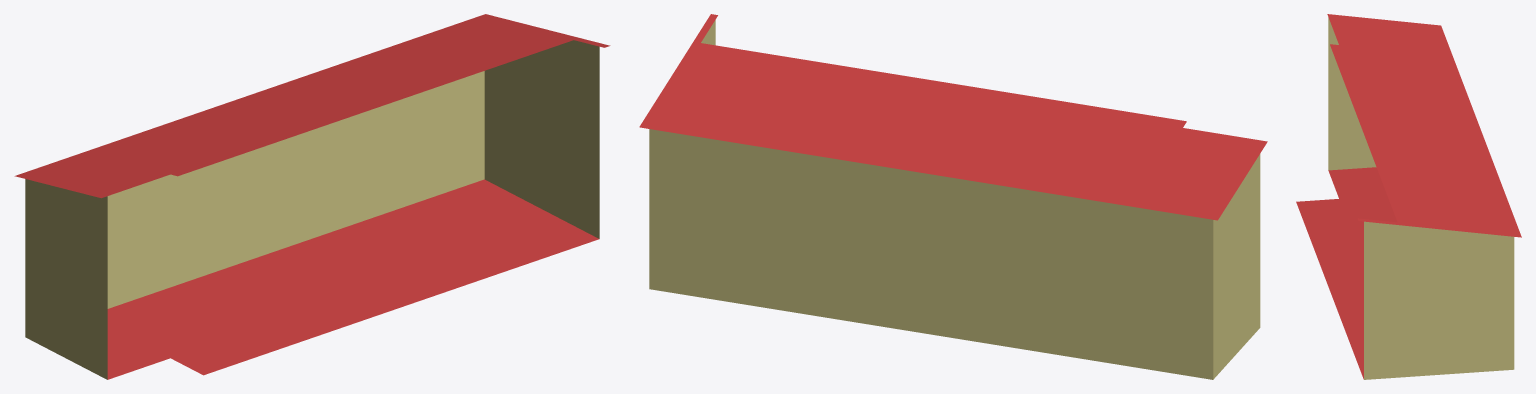
3 renders of one model, left to right at view 1: azimuth 30°, elevation 25°; view 2: azimuth 150°, elevation 25°; view 3: azimuth 270°, elevation 25°, orthographic. The views are drawn at different scales.
Size of the model in its own units: 20.11 by 8.6 by 6.81.
